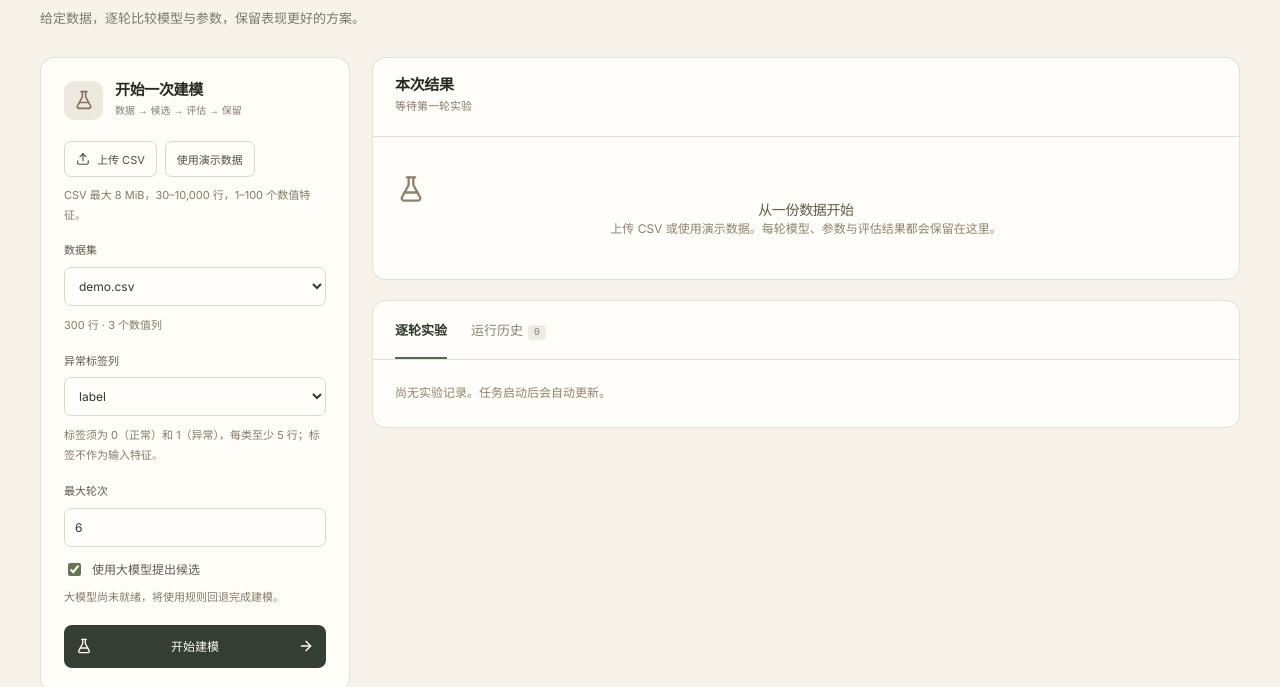
ResearcherDashboard › shows the backend error when a run cannot start
This screenshot has width=1280, height=687.
(page scrolled)
Click the button "开始建模" at coordinates (195, 646), box left=64, top=625, right=326, bottom=668
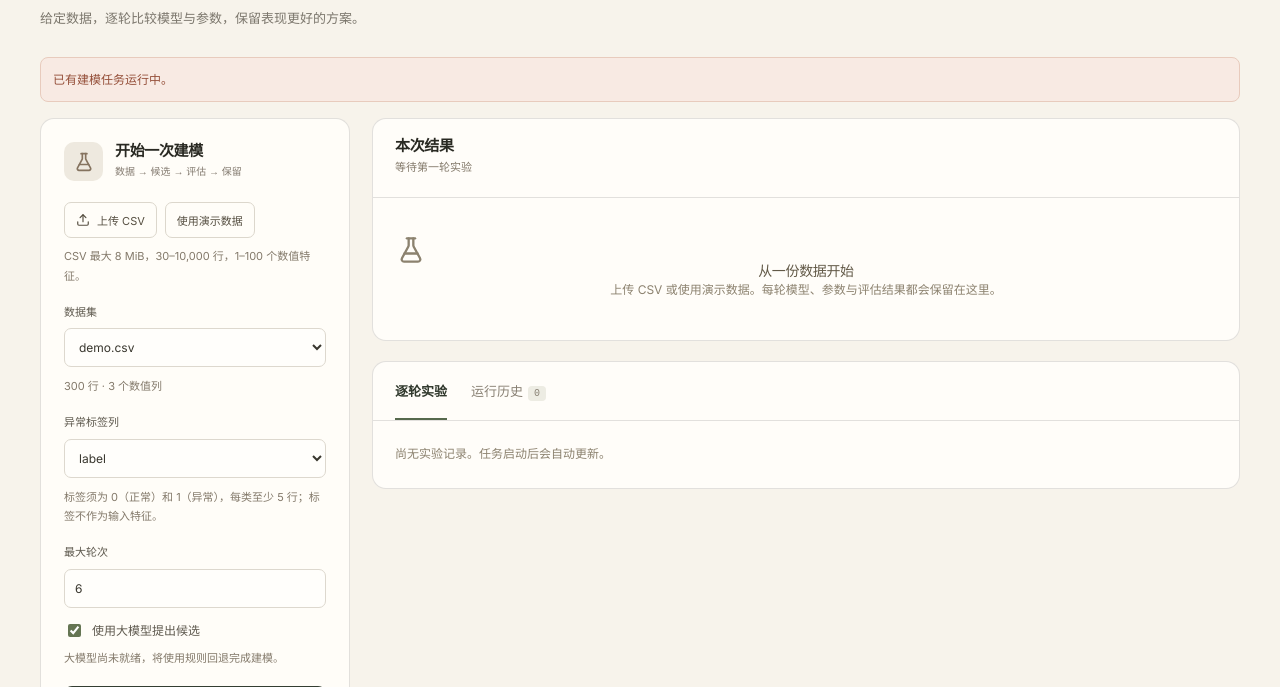
Expected: the message reads "已有建模任务运行中。", left=53, top=72, right=173, bottom=87
